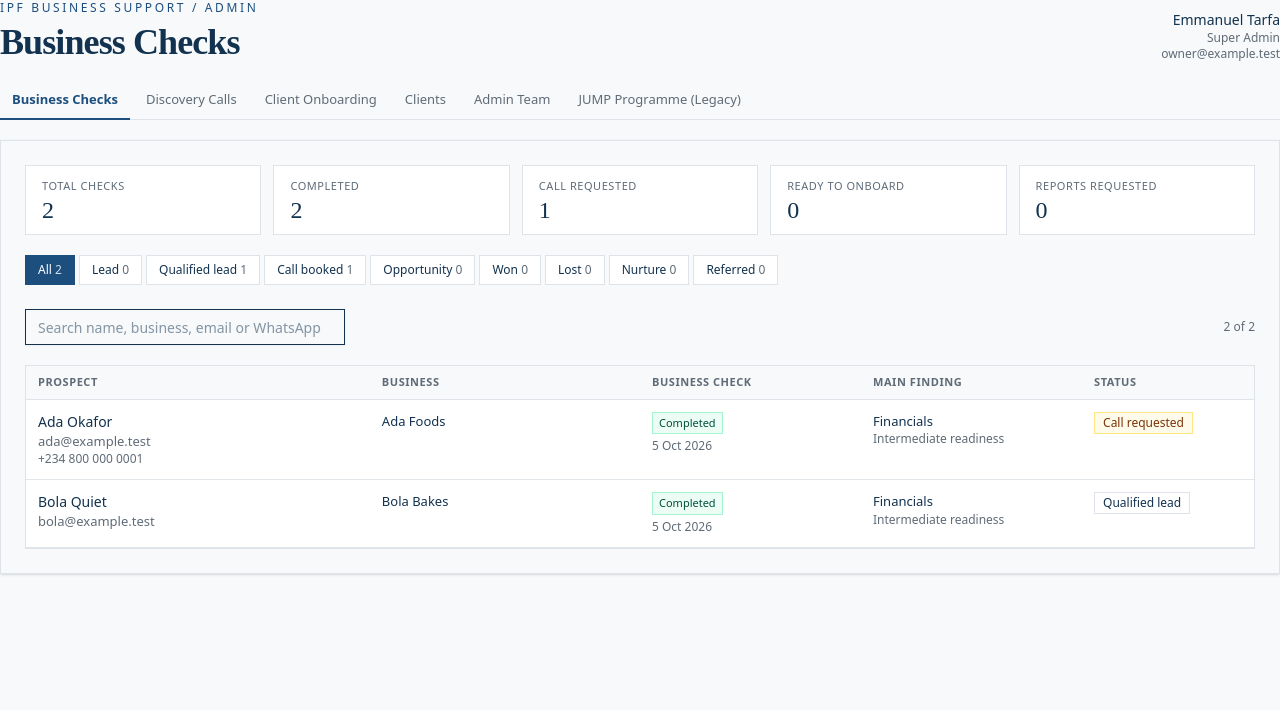
Business Check record drawer › shows the funnel with dates and the current stage in plain words
This screenshot has width=1280, height=710.
Step 1. Click the text "Ada Okafor" → point(640, 439), box [26,399,1254,480]
(page scrolled)
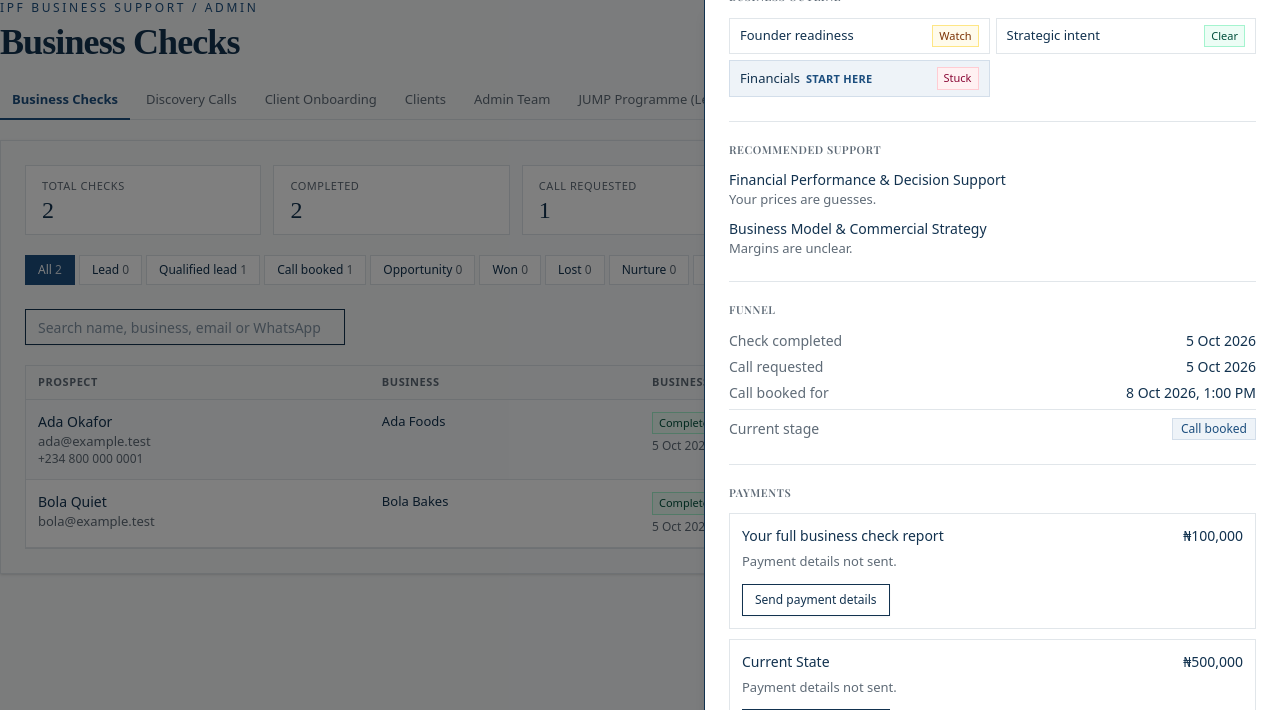
Expected: the element "Funnel" shows "Check completed", [729,331,842,350]
Expected: the element "Funnel" shows "Call requested", [729,357,823,376]
Expected: the element "Funnel" shows "Call booked for", [729,383,829,402]
